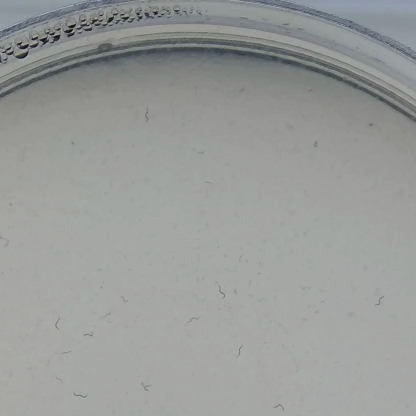worm: (183, 313, 203, 331), (215, 281, 232, 302), (371, 291, 389, 308), (232, 341, 248, 360), (140, 107, 154, 126), (69, 389, 93, 399), (271, 401, 289, 414), (95, 309, 113, 321), (49, 317, 64, 331), (139, 380, 155, 392), (50, 375, 67, 385), (0, 236, 13, 249), (80, 329, 94, 341), (116, 295, 128, 309)
